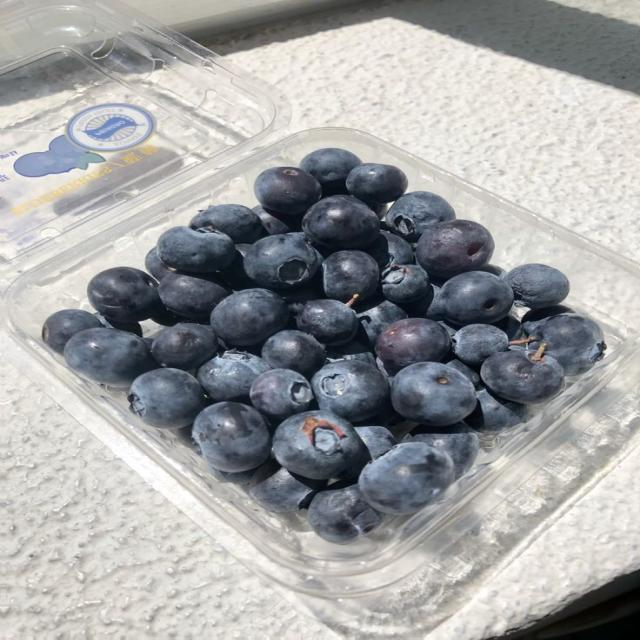blueberry: (359, 442, 453, 514), (274, 411, 365, 479), (193, 402, 271, 472), (64, 329, 157, 386), (392, 363, 476, 426), (312, 360, 389, 422), (128, 368, 208, 427), (529, 314, 606, 375), (211, 289, 289, 346), (416, 220, 494, 277), (308, 485, 383, 544), (481, 351, 564, 404), (404, 423, 479, 478), (376, 319, 451, 374), (244, 234, 319, 289), (302, 196, 379, 248), (87, 267, 159, 322), (249, 460, 325, 512), (440, 272, 513, 325), (197, 351, 269, 401), (385, 192, 455, 242), (157, 227, 234, 272), (254, 167, 321, 215), (340, 426, 398, 481), (250, 369, 313, 419), (159, 273, 228, 318), (152, 323, 218, 370), (261, 331, 326, 377), (297, 296, 358, 345), (300, 148, 361, 197), (322, 251, 379, 302), (189, 205, 263, 243), (506, 264, 569, 308), (466, 390, 528, 433), (42, 310, 102, 354), (347, 164, 407, 204), (452, 324, 508, 365), (358, 300, 406, 344), (367, 231, 413, 272), (382, 265, 429, 304), (280, 275, 323, 315), (220, 244, 256, 290), (521, 305, 574, 335), (402, 283, 443, 320), (290, 231, 333, 265), (355, 426, 397, 459), (253, 205, 296, 234), (327, 341, 375, 366), (414, 283, 444, 320), (94, 313, 142, 336), (207, 464, 259, 485), (446, 359, 482, 388), (145, 247, 173, 281), (151, 306, 193, 326), (494, 313, 522, 341), (376, 357, 394, 384), (477, 264, 506, 279), (438, 321, 460, 337), (142, 337, 154, 349)
